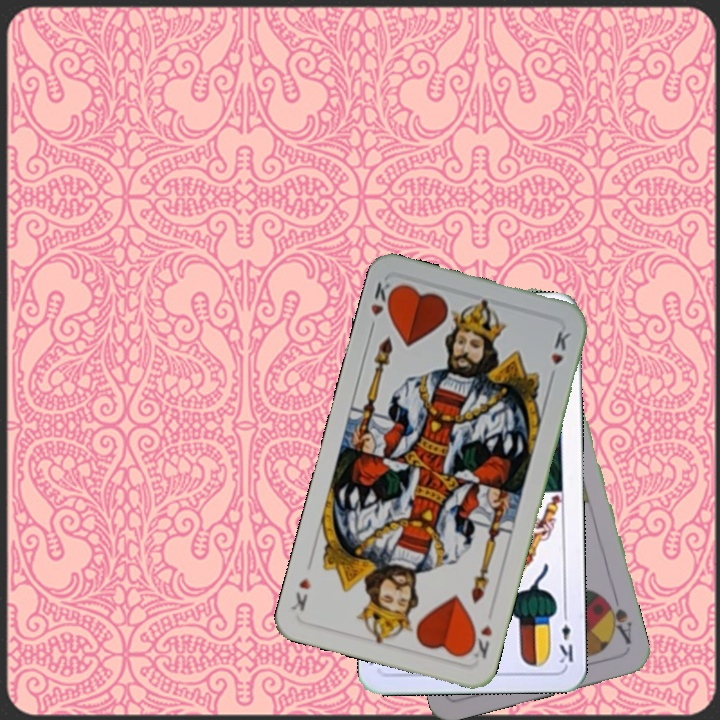EK: (555, 607, 576, 666)
HK: (365, 276, 399, 335), (464, 621, 495, 661)
SA: (601, 591, 634, 647)
